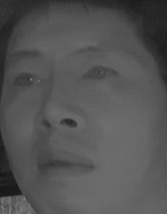eye: (81, 61, 119, 86), (11, 69, 48, 92)
mouth: (35, 148, 96, 185)
